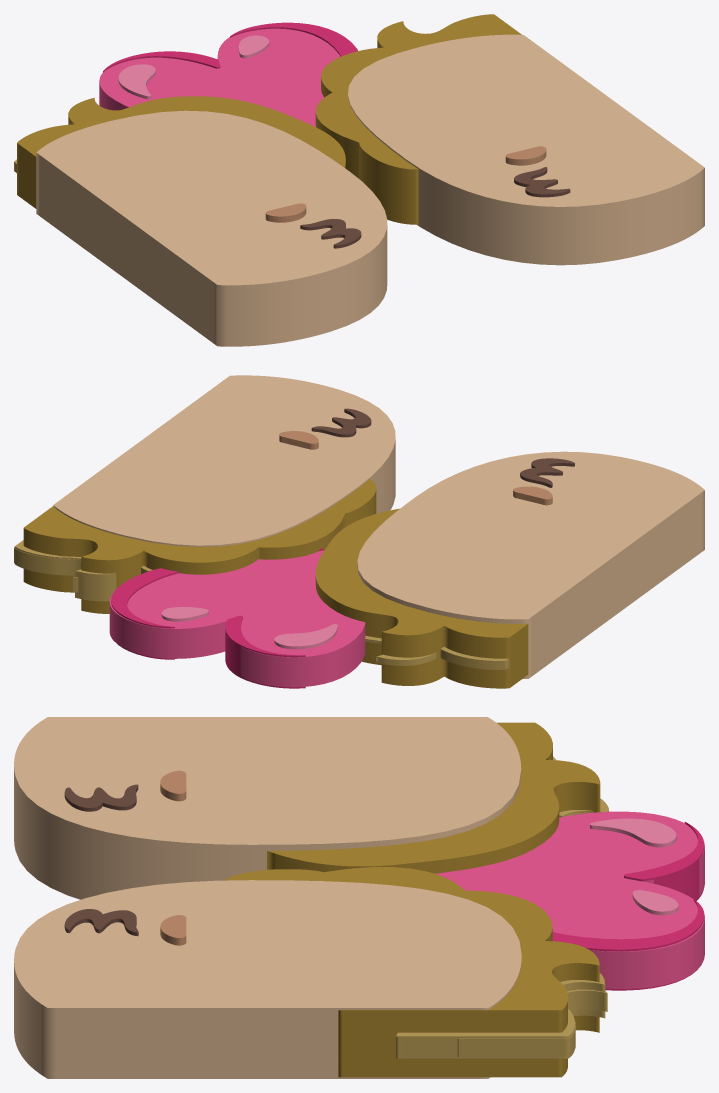
File: emoji_u1f48f_1f3fc.glb
The picture shows the model from 3 angles, top to bottom: view 1: azimuth 30°, elevation 25°; view 2: azimuth 150°, elevation 25°; view 3: azimuth 270°, elevation 25°; orthographic projection. The views are drawn at different scales.
Parts seen in each view (by area): view 1: emoji_u1f48f_1f3fc; view 2: emoji_u1f48f_1f3fc; view 3: emoji_u1f48f_1f3fc.
Boxes of the visible parts, x1,y1,x2,y2 form: emoji_u1f48f_1f3fc: (14, 14, 704, 346); emoji_u1f48f_1f3fc: (14, 375, 704, 688); emoji_u1f48f_1f3fc: (14, 717, 704, 1078).
Size of the model in its own units: 0.0338 by 0.0048 by 0.0336.
